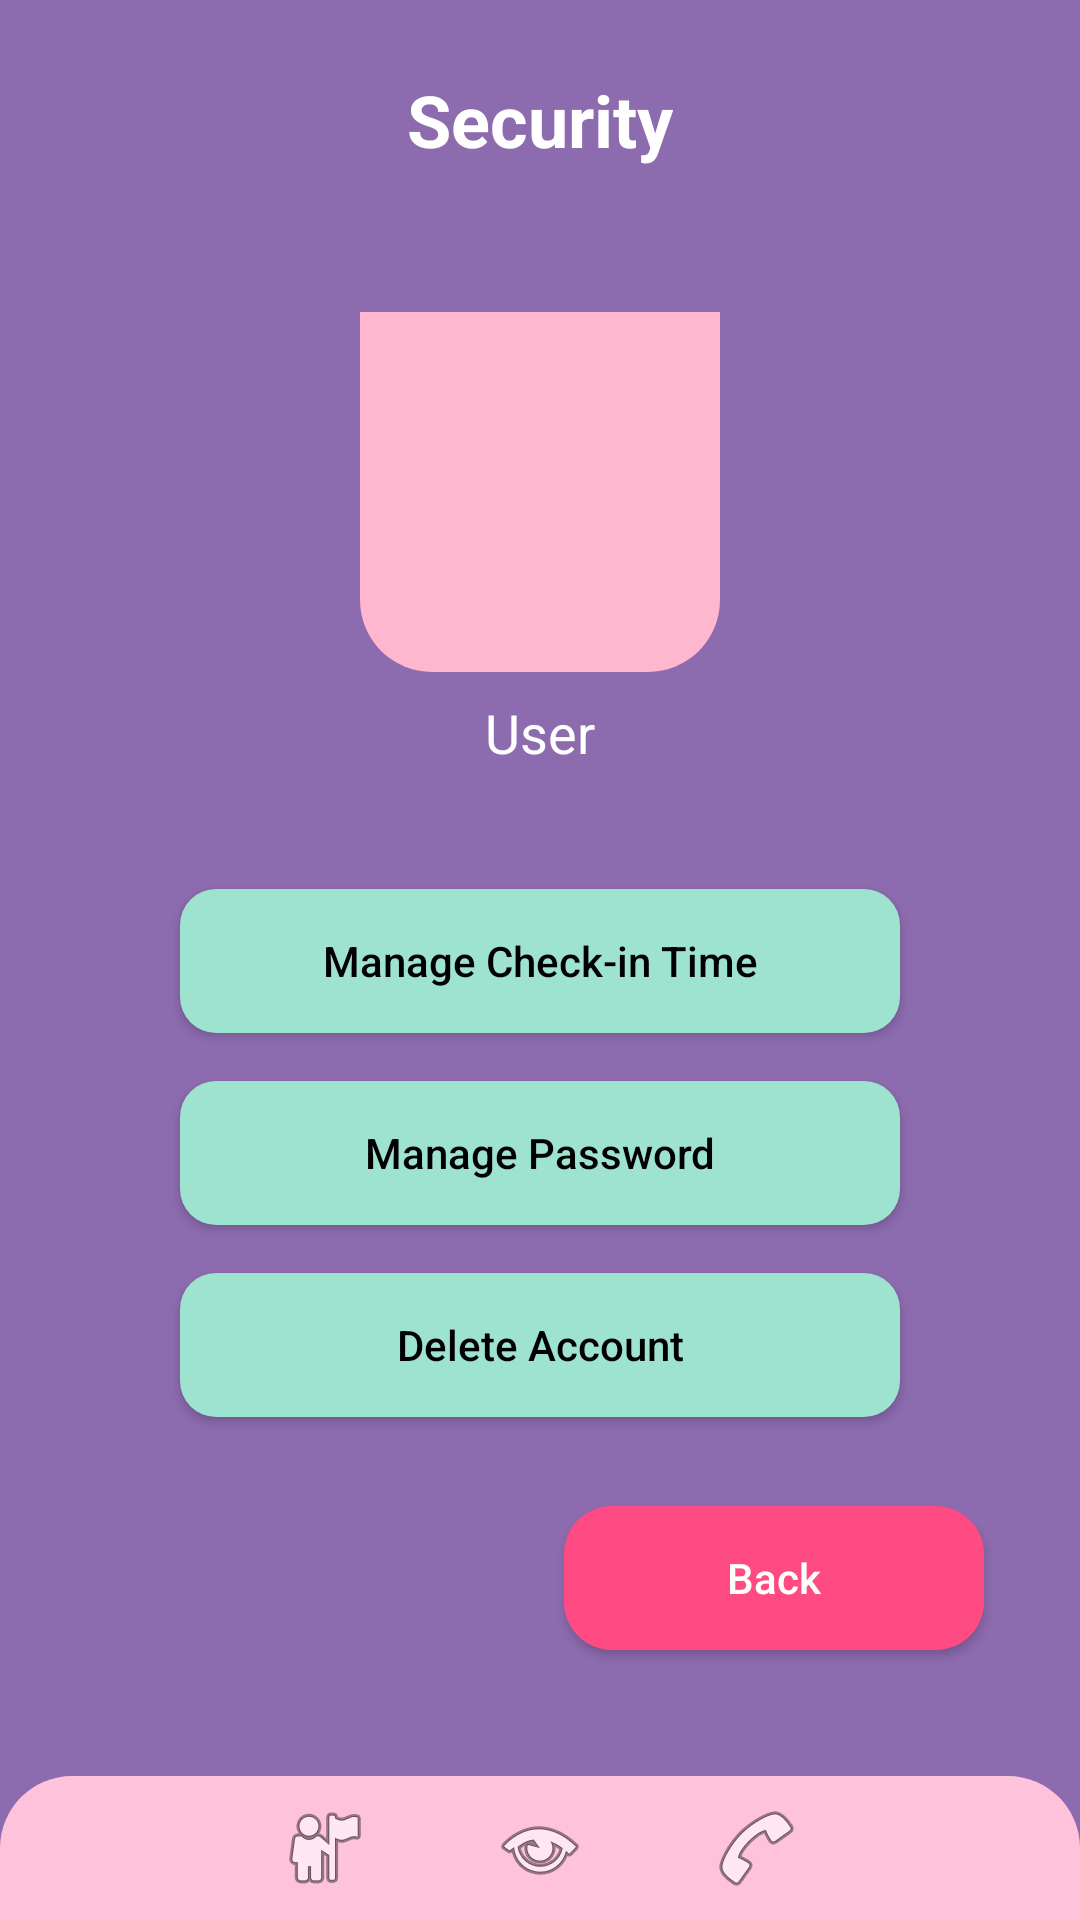

Icons on this 1080 × 1920 Android screen, each with its box as (x1, y1, x2, y2):
Contacts: (719, 1811, 794, 1886)
